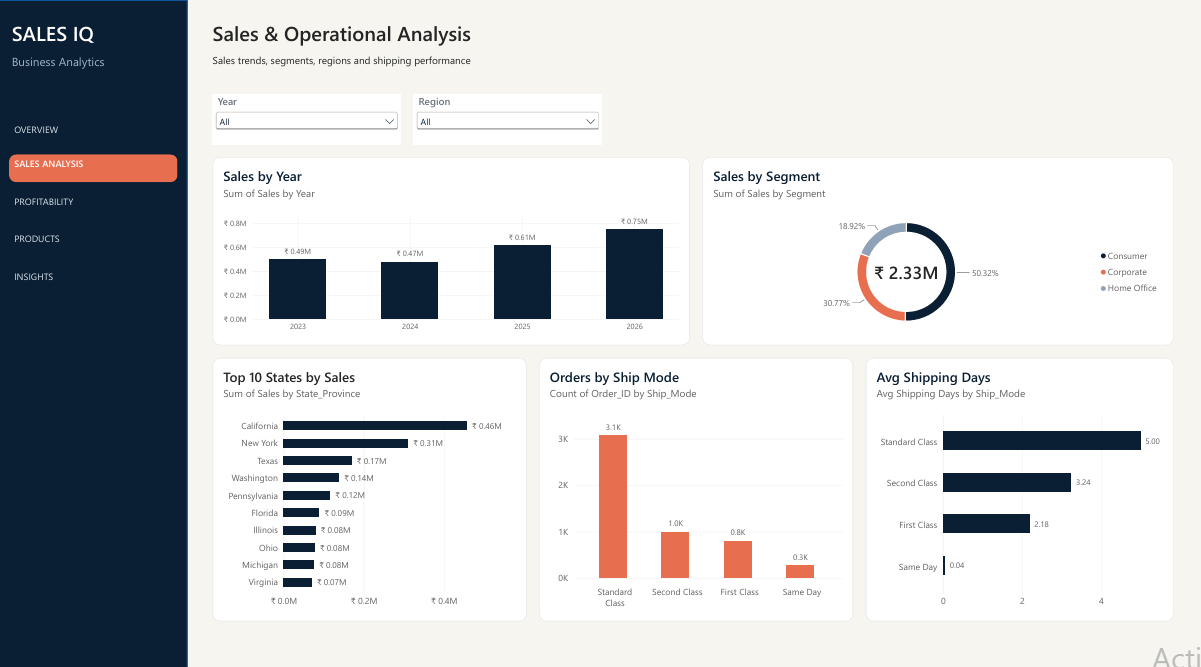

Layout of this report page (visuals, bound fields, positions):
{"tool":"powerbi","page":{"name":"Sales Analysis","canvas":[1920,1080],"ordinal":1},"visuals":[{"type":"shape","box":[0,0,300,1080],"z":0},{"type":"shape","box":[16.3,246,268,44],"z":1000},{"type":"slicer","fields":{"Values":["sales_analytics orders.Order_Date.Variation.Date Hierarchy.Year"]},"box":[340,150,300,80],"z":2000},{"type":"slicer","fields":{"Values":["sales_analytics orders.Region"]},"box":[660,150,300,80],"z":3000},{"type":"clusteredColumnChart","title":"Sales by Year","fields":{"Category":["sales_analytics orders.Order_Date.Variation.Date Hierarchy.Year"],"Y":["Sum(sales_analytics orders.Sales)"]},"box":[340,250,760,300],"z":4000},{"type":"donutChart","title":"Sales by Segment","fields":{"Category":["sales_analytics orders.Segment"],"Y":["Sum(sales_analytics orders.Sales)"]},"box":[1120,250,750,300],"z":5000},{"type":"clusteredBarChart","title":"Top 10 States by Sales","fields":{"Category":["sales_analytics orders.State_Province"],"Y":["Sum(sales_analytics orders.Sales)"]},"box":[340,570,500,420],"z":6000},{"type":"textbox","box":[20,30,260,60],"z":7000},{"type":"textbox","box":[20,85,240,40],"z":8000},{"type":"textbox","box":[24,310,240,40],"z":9000},{"type":"textbox","box":[24,250,240,40],"z":10000},{"type":"textbox","box":[24,370,240,40],"z":11000},{"type":"textbox","box":[24,196,218.6,48.8],"z":12000},{"type":"textbox","box":[340,30,700,60],"z":13000},{"type":"textbox","box":[24,430,240,40],"z":14000},{"type":"textbox","box":[340,85,700,36],"z":15000},{"type":"clusteredColumnChart","title":"Orders by Ship Mode","fields":{"Category":["sales_analytics orders.Ship_Mode"],"Y":["Count(sales_analytics orders.Order_ID)"]},"box":[860,570,500,420],"z":16000},{"type":"clusteredBarChart","title":"Avg Shipping Days","fields":{"Category":["sales_analytics orders.Ship_Mode"],"Y":["sales_analytics orders.Avg Shipping Days"]},"box":[1380,570,490,420],"z":17000},{"type":"actionButton","box":[16,246,268,44],"z":18000},{"type":"actionButton","box":[16,306,268,44],"z":19000},{"type":"actionButton","box":[16,186,268,44],"z":20000},{"type":"actionButton","box":[16,366,268,44],"z":21000},{"type":"actionButton","box":[16,426,268,44],"z":22000}]}

Visuals, with their boxes on the page's 1920x1080 design canvas (x1, y1, x2, y2). These are canvas units, not pixel positions in the 1201x667 screenshot, which may show the page scaled, cropped or inside an application window:
shape: locate(0, 0, 300, 1080)
shape: locate(16, 246, 284, 290)
slicer - sales_analytics orders.Order_Date.Variation.Date Hierarchy.Year: locate(340, 150, 640, 230)
slicer - sales_analytics orders.Region: locate(660, 150, 960, 230)
"Sales by Year" clusteredColumnChart: locate(340, 250, 1100, 550)
"Sales by Segment" donutChart: locate(1120, 250, 1870, 550)
"Top 10 States by Sales" clusteredBarChart: locate(340, 570, 840, 990)
textbox: locate(20, 30, 280, 90)
textbox: locate(20, 85, 260, 125)
textbox: locate(24, 310, 264, 350)
textbox: locate(24, 250, 264, 290)
textbox: locate(24, 370, 264, 410)
textbox: locate(24, 196, 243, 245)
textbox: locate(340, 30, 1040, 90)
textbox: locate(24, 430, 264, 470)
textbox: locate(340, 85, 1040, 121)
"Orders by Ship Mode" clusteredColumnChart: locate(860, 570, 1360, 990)
"Avg Shipping Days" clusteredBarChart: locate(1380, 570, 1870, 990)
actionButton: locate(16, 246, 284, 290)
actionButton: locate(16, 306, 284, 350)
actionButton: locate(16, 186, 284, 230)
actionButton: locate(16, 366, 284, 410)
actionButton: locate(16, 426, 284, 470)
